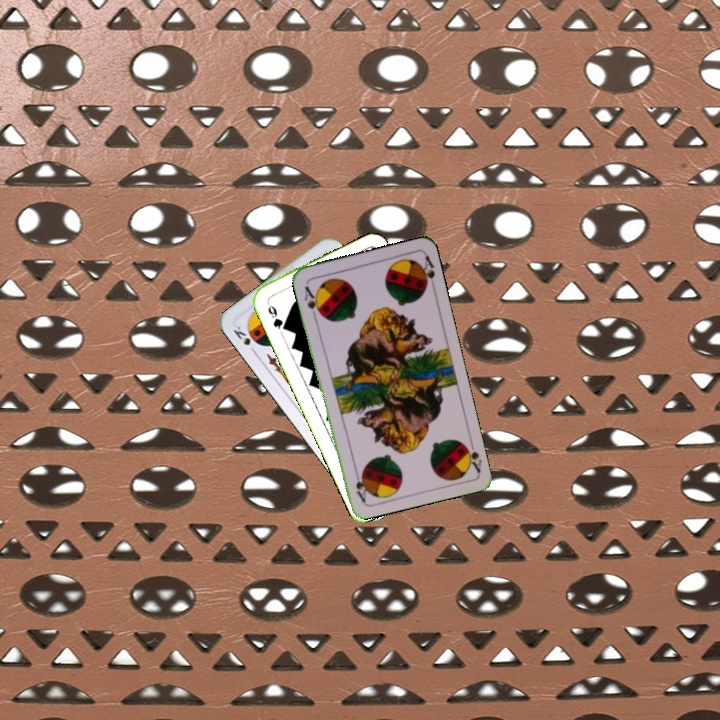G9: (262, 297, 289, 333)
SA: (459, 435, 484, 475), (300, 282, 324, 320)
SK: (229, 322, 259, 357)
